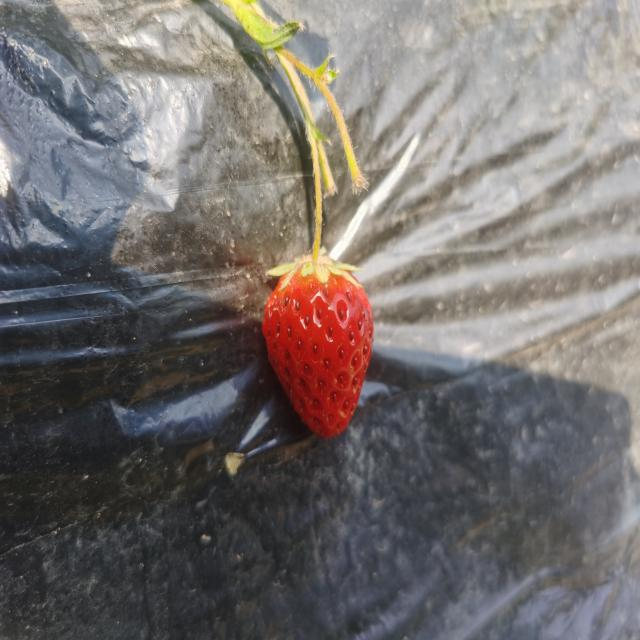stem: (311, 186, 322, 267)
strawberry: (262, 256, 373, 438)
